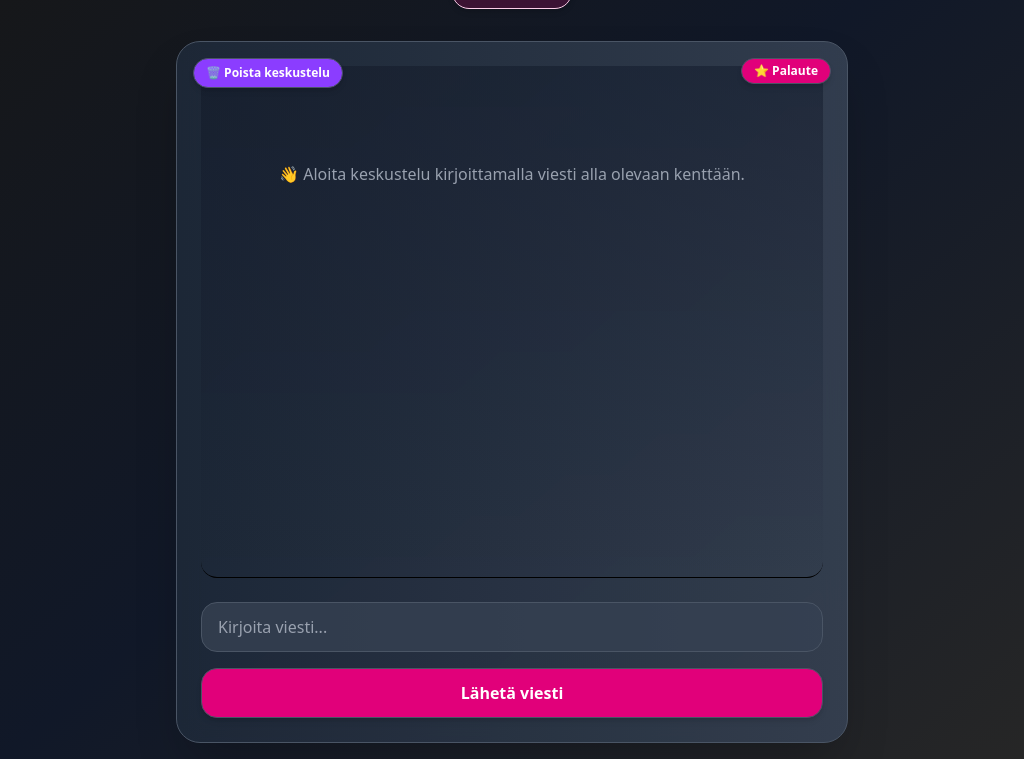
Test case: Chat message sending › typing and sending a message renders it in chat
(page scrolled)
// Simuloidaan viestin kirjoittaminen tekstikenttään
In the field with placeholder "Kirjoita viesti...": (512, 627) [201,602,823,652], type "Moikka"
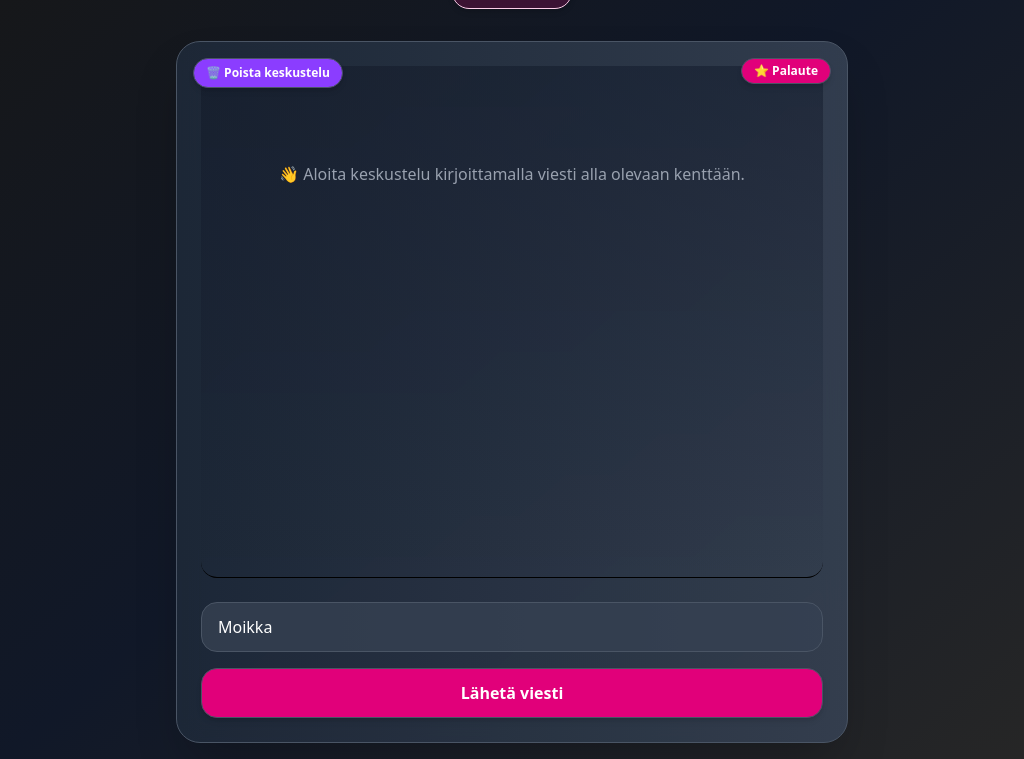
// Simuloidaan Lähetä-napin painallus
Click the button "Lähetä viesti": (512, 693) [201,668,823,718]
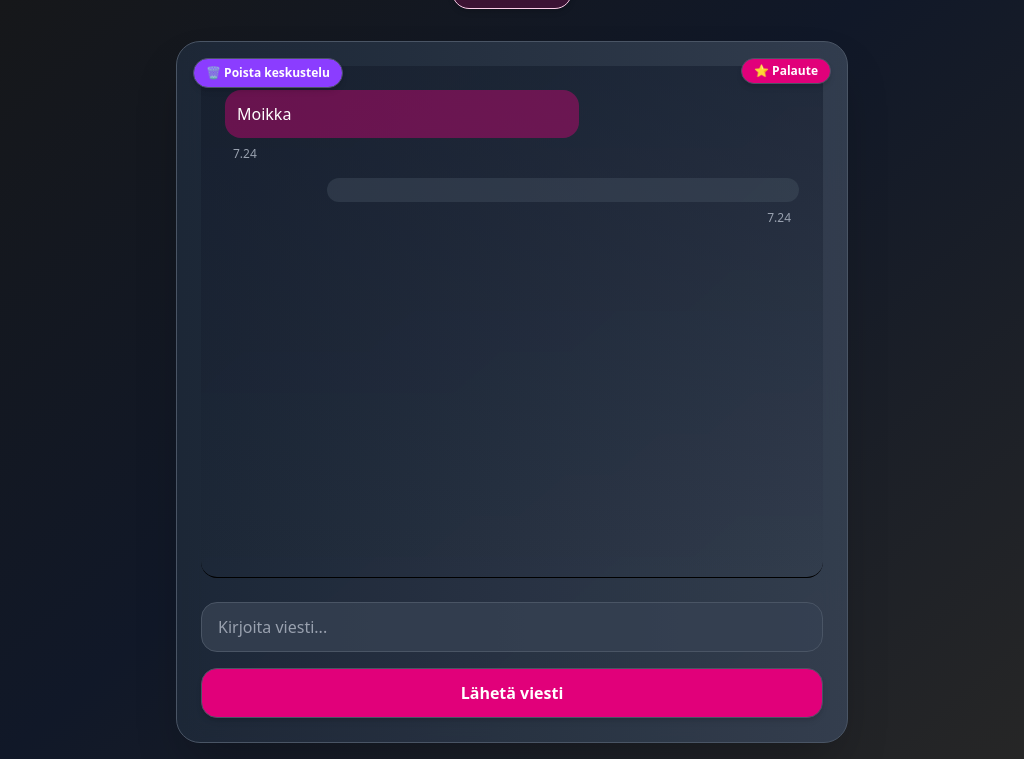
Check: the text "Moikka" is shown, box [225,90,579,138]
